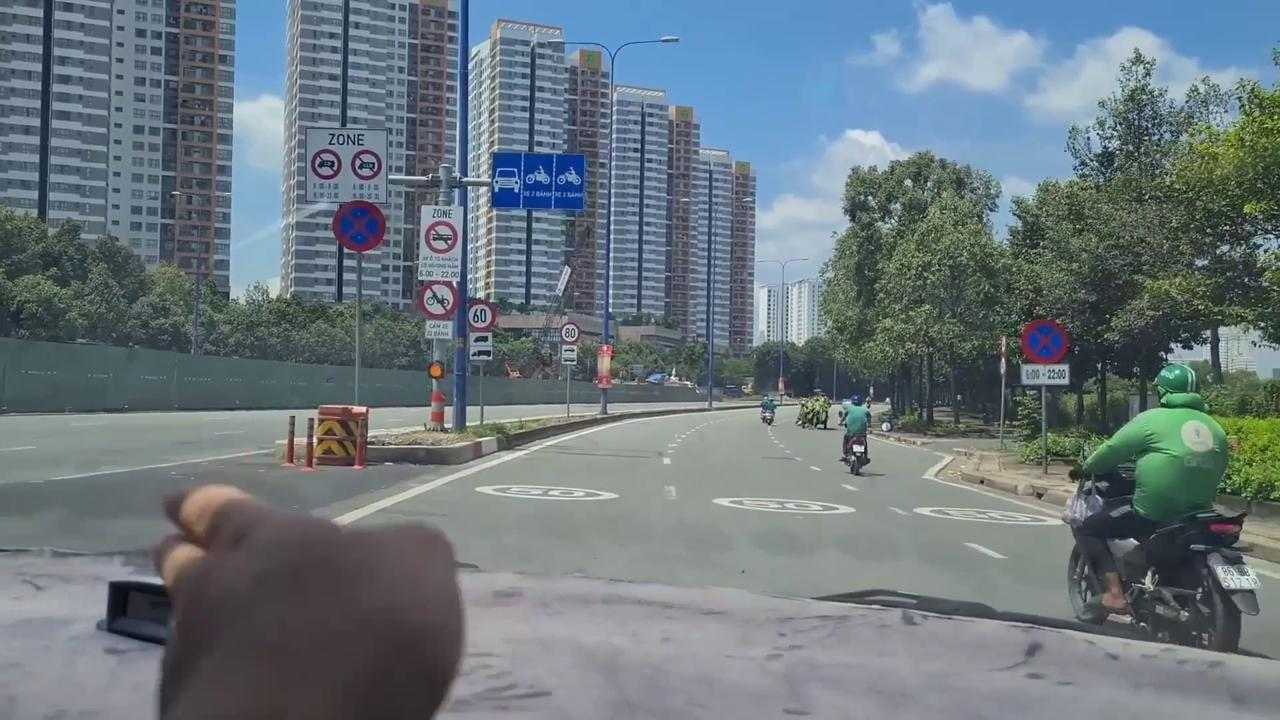Biển phụ: (1018, 364, 1071, 386), (468, 332, 493, 360), (425, 319, 453, 340), (560, 343, 578, 365)
Cấm cac phương tiện hoạt động trong khung giờ cố định: (304, 127, 389, 205), (418, 204, 462, 283)
Cấm dừng - Cấm đỗ: (333, 200, 386, 255), (1018, 319, 1069, 363)
Cấm xe máy: (419, 280, 457, 322)
GIơi hạn tốc độ 60Km/h: (466, 300, 497, 333)
Giới hạn tốc độ 80Km/h: (560, 320, 582, 343)
Đuờng hẹp: (490, 151, 584, 210)
